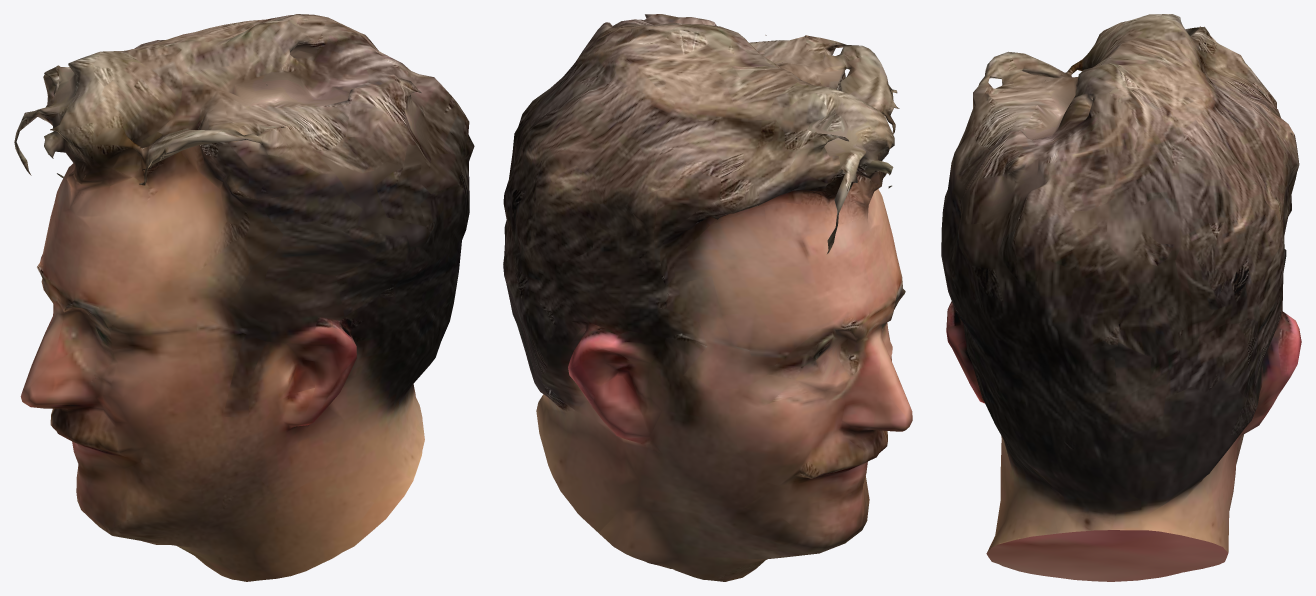
The picture shows the model from 3 angles, left to right: view 1: azimuth 30°, elevation 25°; view 2: azimuth 150°, elevation 25°; view 3: azimuth 270°, elevation 25°; orthographic projection.
Visible parts, largest first — view 1: Mesh_0.001; view 2: Mesh_0.001; view 3: Mesh_0.001.
Part boxes in pixels (box(x1,y1,x2,y2)): Mesh_0.001: box(14, 14, 474, 581); Mesh_0.001: box(503, 14, 912, 581); Mesh_0.001: box(941, 14, 1301, 581).
Size of the model in its own units: 1.12 by 1.43 by 0.8729.
2 materials, 2 textured.
